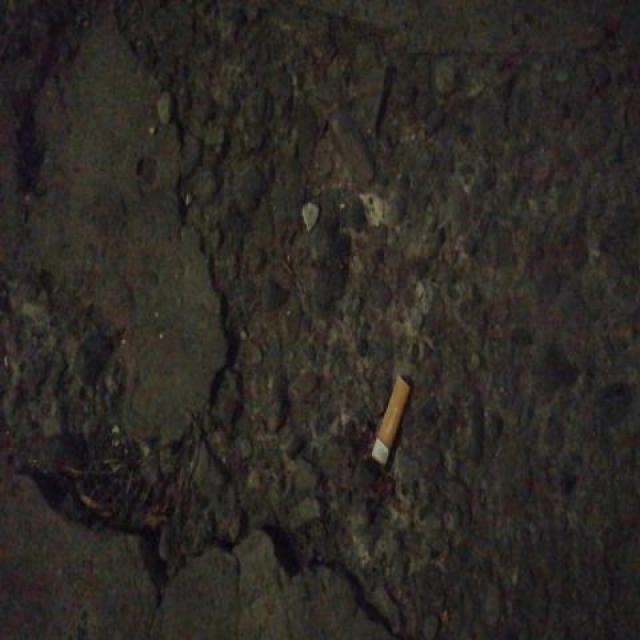non-organic waste: (367, 366, 413, 471)
